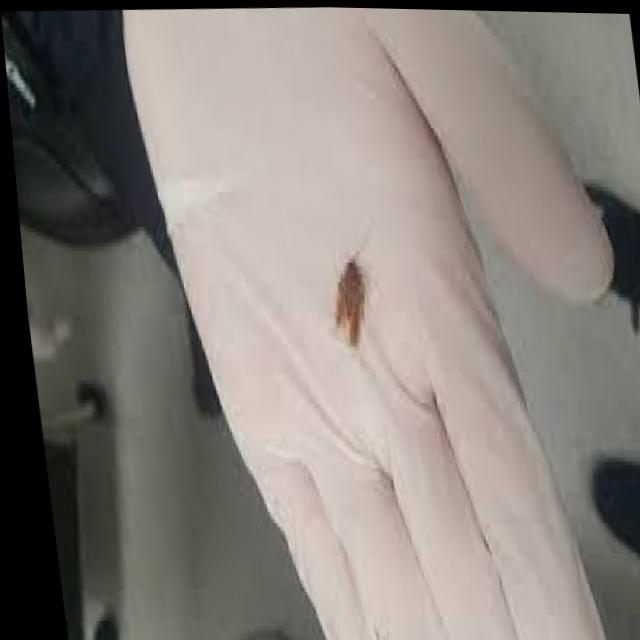Cockroach: (305, 205, 386, 365)
